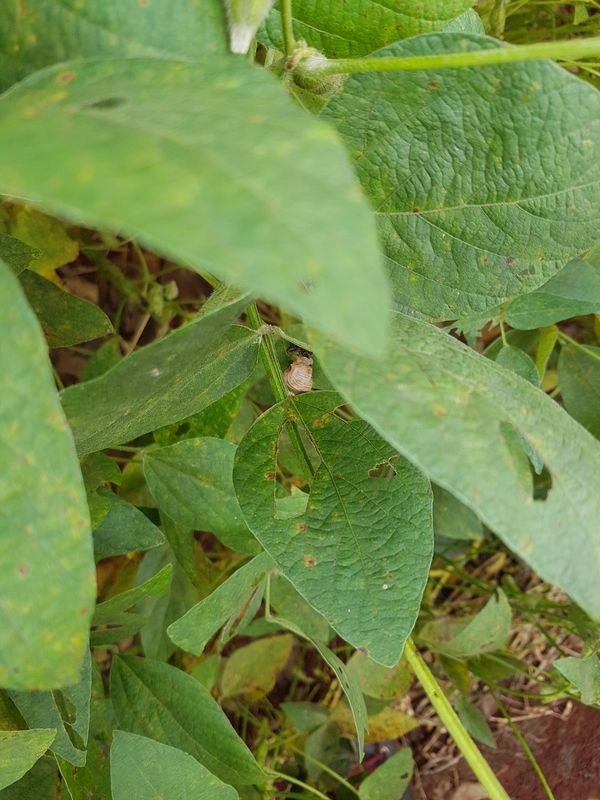Gastropoda: (274, 353, 320, 403)
